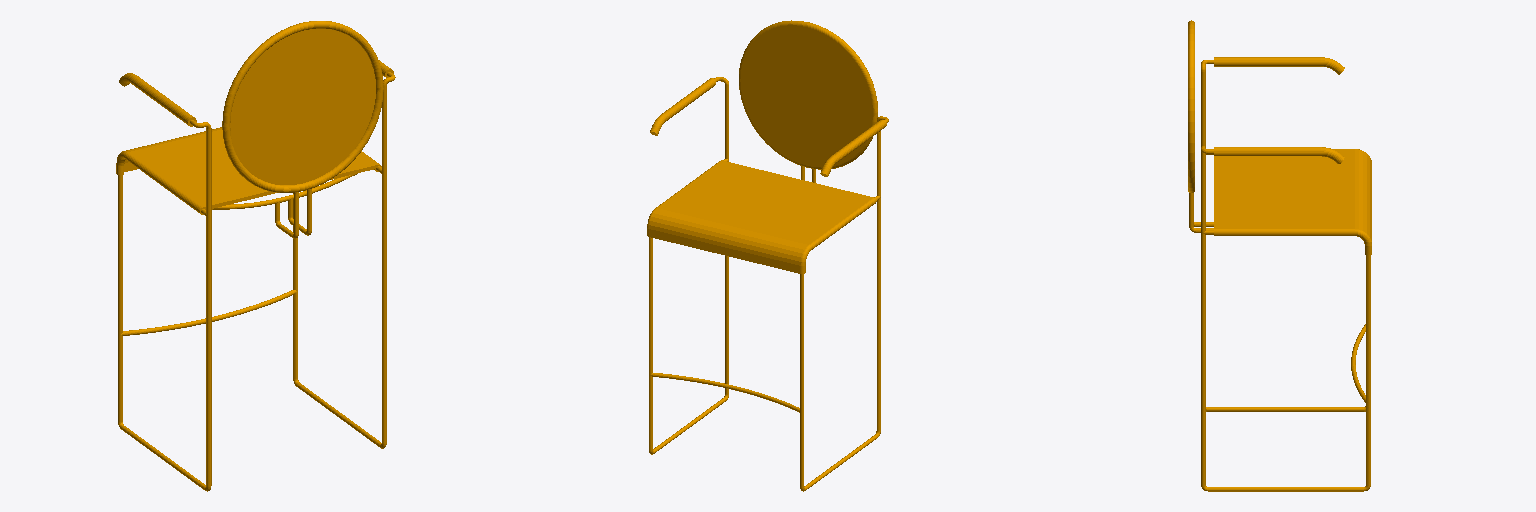
The robot description file, URDF, robot "94ef9a352eefe9455ac8254dd793f590":
<?xml version="1.0" ?>
<robot name="94ef9a352eefe9455ac8254dd793f590">

  <link name="base">

    <inertial>
      <mass value="1"/>
      <inertia ixx="1" ixy="0" ixz="0" iyy="1" iyz="0" izz="1"/>
    </inertial>

    <visual>
      <origin rpy="1.57079 0 0" xyz="0 0 0.54"/>
      <geometry>
        <mesh filename ="models/model_normalized.obj" scale="1 1 1"/>
      </geometry>
    </visual>

    <collision>
      <origin rpy="1.57079 0 0" xyz="0 0 0.54"/>
      <geometry>
        <mesh filename ="models/model_normalized.obj" scale="1 1 1"/>
      </geometry>
    </collision>

  </link>
  
</robot>

--- What the picture shows (computed from the rendered views, not written in the file) ---
3 views of the same robot in one strip: view 1: azimuth 30°, elevation 25°; view 2: azimuth 150°, elevation 25°; view 3: azimuth 270°, elevation 25° (orthographic).
Model 94ef9a352eefe9455ac8254dd793f590 with 1 links and 0 joints (none), rooted at base, posed all joints at 0.
Links seen in each view (by area): view 1: base; view 2: base; view 3: base.
Boxes of the visible links, <box> form: base: <box>116,21,395,491</box>; base: <box>647,20,888,491</box>; base: <box>1188,20,1371,491</box>.
Bounding box of the posed robot: 0.4045 × 0.3365 × 0.8504 m (x, y, z).
Meshes: 1 distinct files referenced, 1 mesh visuals loaded (1 OBJ).